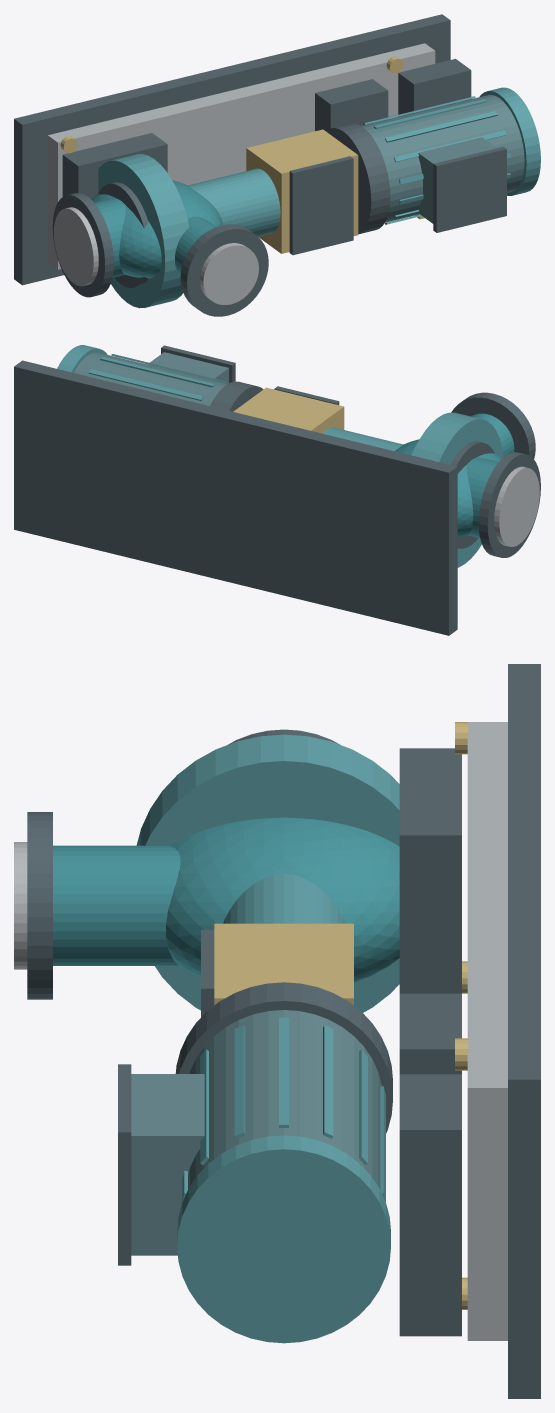
File: ap-pump-centrifugal-horizontal-m03.glb
3 views of the same model, one above another, from view 1: azimuth 30°, elevation 25°; view 2: azimuth 150°, elevation 25°; view 3: azimuth 270°, elevation 25° (orthographic). The views are drawn at different scales.
Parts seen in each view (by area): view 1: pump_m03_part_001, pump_m03_part_000, pump_m03_part_019, pump_m03_part_007, pump_m03_part_018, pump_m03_part_023, pump_m03_part_017, pump_m03_part_015, pump_m03_part_013, pump_m03_part_006, pump_m03_part_021, pump_m03_part_039 (+13 smaller); view 2: pump_m03_part_000, pump_m03_part_007, pump_m03_part_017, pump_m03_part_011, pump_m03_part_019, pump_m03_part_010, pump_m03_part_013, pump_m03_part_006, pump_m03_part_022, pump_m03_part_009, pump_m03_part_021, pump_m03_part_008 (+6 smaller); view 3: pump_m03_part_020, pump_m03_part_001, pump_m03_part_000, pump_m03_part_006, pump_m03_part_007, pump_m03_part_019, pump_m03_part_041, pump_m03_part_039, pump_m03_part_012, pump_m03_part_022, pump_m03_part_017, pump_m03_part_021 (+10 smaller).
Part boxes in pixels (x1,y1,x2,y2): pump_m03_part_001: (48, 43, 435, 269); pump_m03_part_000: (14, 14, 450, 285); pump_m03_part_019: (361, 95, 524, 222); pump_m03_part_007: (98, 154, 189, 308); pump_m03_part_018: (289, 156, 353, 255); pump_m03_part_023: (433, 146, 506, 232); pump_m03_part_017: (246, 129, 358, 253); pump_m03_part_015: (188, 168, 280, 236); pump_m03_part_013: (180, 224, 268, 316); pump_m03_part_006: (92, 180, 222, 278); pump_m03_part_021: (326, 123, 390, 234); pump_m03_part_039: (62, 133, 167, 199); pump_m03_part_000: (14, 360, 457, 635); pump_m03_part_007: (412, 412, 503, 567); pump_m03_part_017: (233, 387, 344, 433); pump_m03_part_011: (494, 466, 539, 546); pump_m03_part_019: (73, 352, 227, 405); pump_m03_part_010: (478, 452, 540, 557); pump_m03_part_013: (451, 392, 535, 458); pump_m03_part_006: (395, 439, 500, 537); pump_m03_part_022: (147, 352, 228, 383); pump_m03_part_009: (466, 457, 498, 538); pump_m03_part_021: (210, 381, 263, 411); pump_m03_part_008: (450, 441, 494, 548); pump_m03_part_020: (177, 1135, 390, 1343); pump_m03_part_001: (467, 722, 507, 1340); pump_m03_part_000: (508, 664, 540, 1398); pump_m03_part_006: (165, 817, 399, 982); pump_m03_part_007: (136, 734, 399, 1012); pump_m03_part_019: (188, 1010, 381, 1189); pump_m03_part_041: (399, 1074, 461, 1336); pump_m03_part_039: (399, 748, 461, 993); pump_m03_part_012: (53, 845, 180, 965); pump_m03_part_022: (131, 1074, 204, 1255); pump_m03_part_017: (214, 923, 353, 1005); pump_m03_part_021: (175, 982, 392, 1133).
Size of the model in its own units: 2.41 by 0.84 by 1.26.
